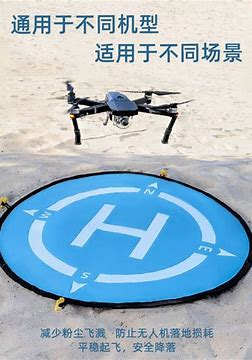H: (69, 203, 170, 260)
